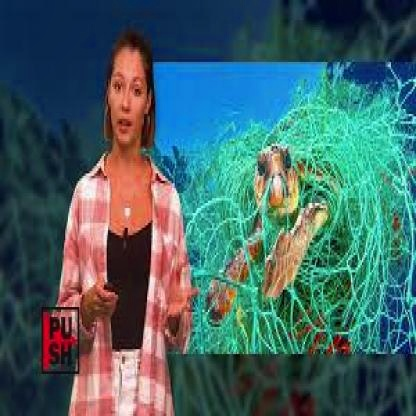net: (198, 89, 405, 352)
